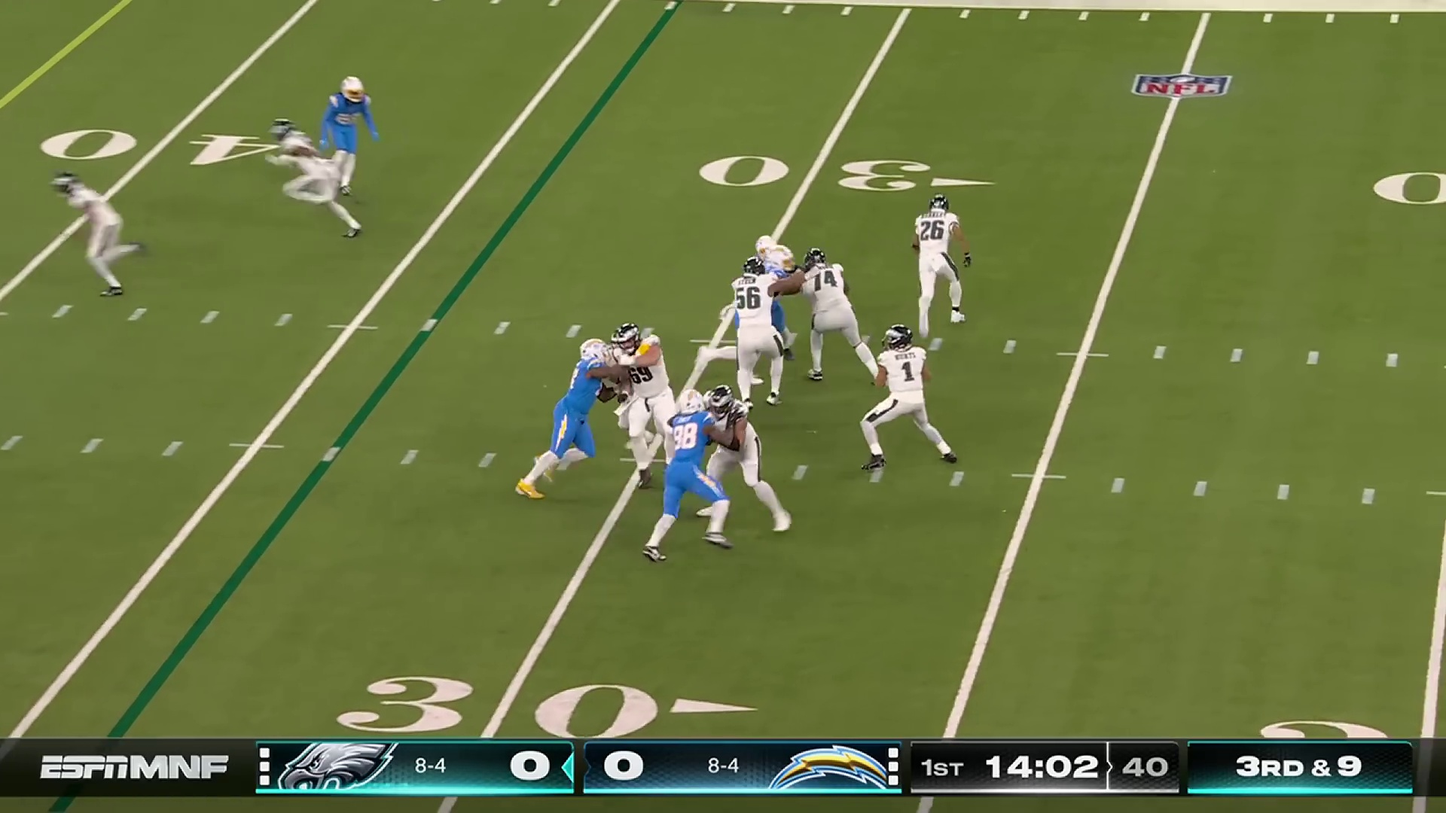player: (641, 398, 738, 577), (861, 322, 961, 482), (47, 172, 148, 310), (697, 389, 795, 531), (257, 119, 358, 252), (610, 322, 686, 491), (525, 339, 600, 499), (794, 246, 877, 390), (908, 195, 976, 340), (743, 239, 798, 388), (731, 263, 786, 404), (324, 71, 371, 198), (735, 234, 775, 381)
